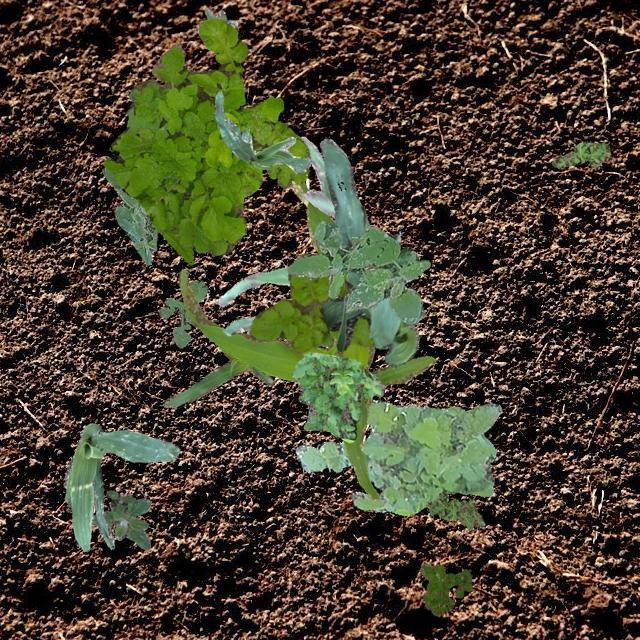crop: (178, 178, 434, 500), (218, 136, 344, 334), (318, 137, 418, 366), (63, 422, 178, 550), (214, 90, 310, 174), (162, 351, 272, 406)
weed: (103, 18, 310, 264), (294, 400, 500, 514), (286, 220, 429, 324), (248, 252, 372, 352), (292, 352, 384, 442), (101, 166, 158, 264), (92, 489, 150, 548), (158, 280, 208, 346), (420, 562, 470, 614), (426, 490, 484, 530), (550, 140, 610, 168), (204, 8, 236, 26)
